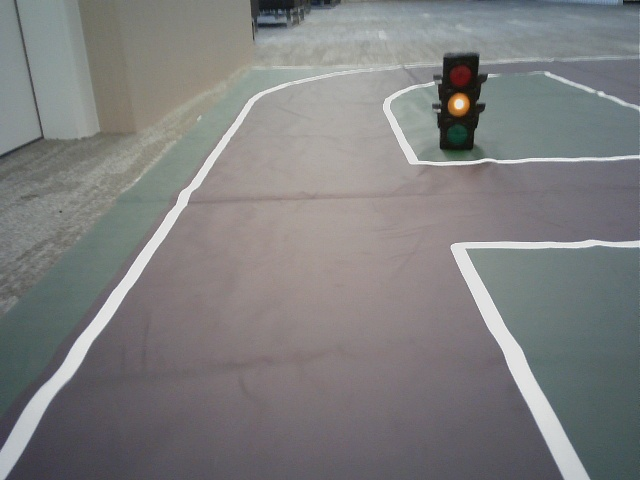yellow: (446, 58, 475, 142)
